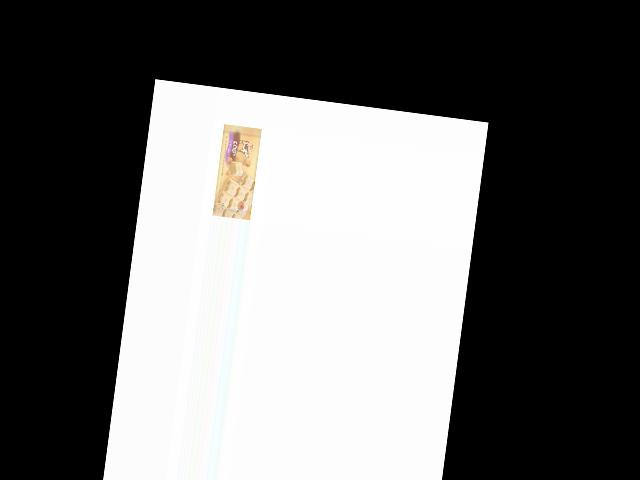chocolate: (209, 120, 261, 220)
